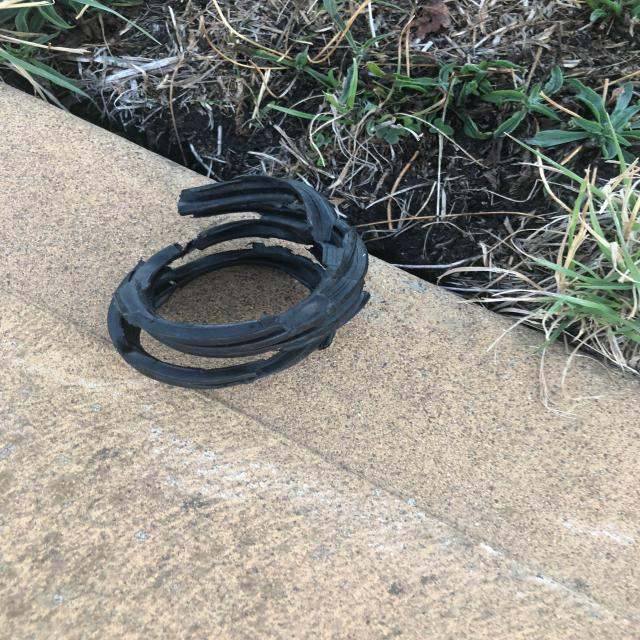litter: (107, 168, 379, 387)
